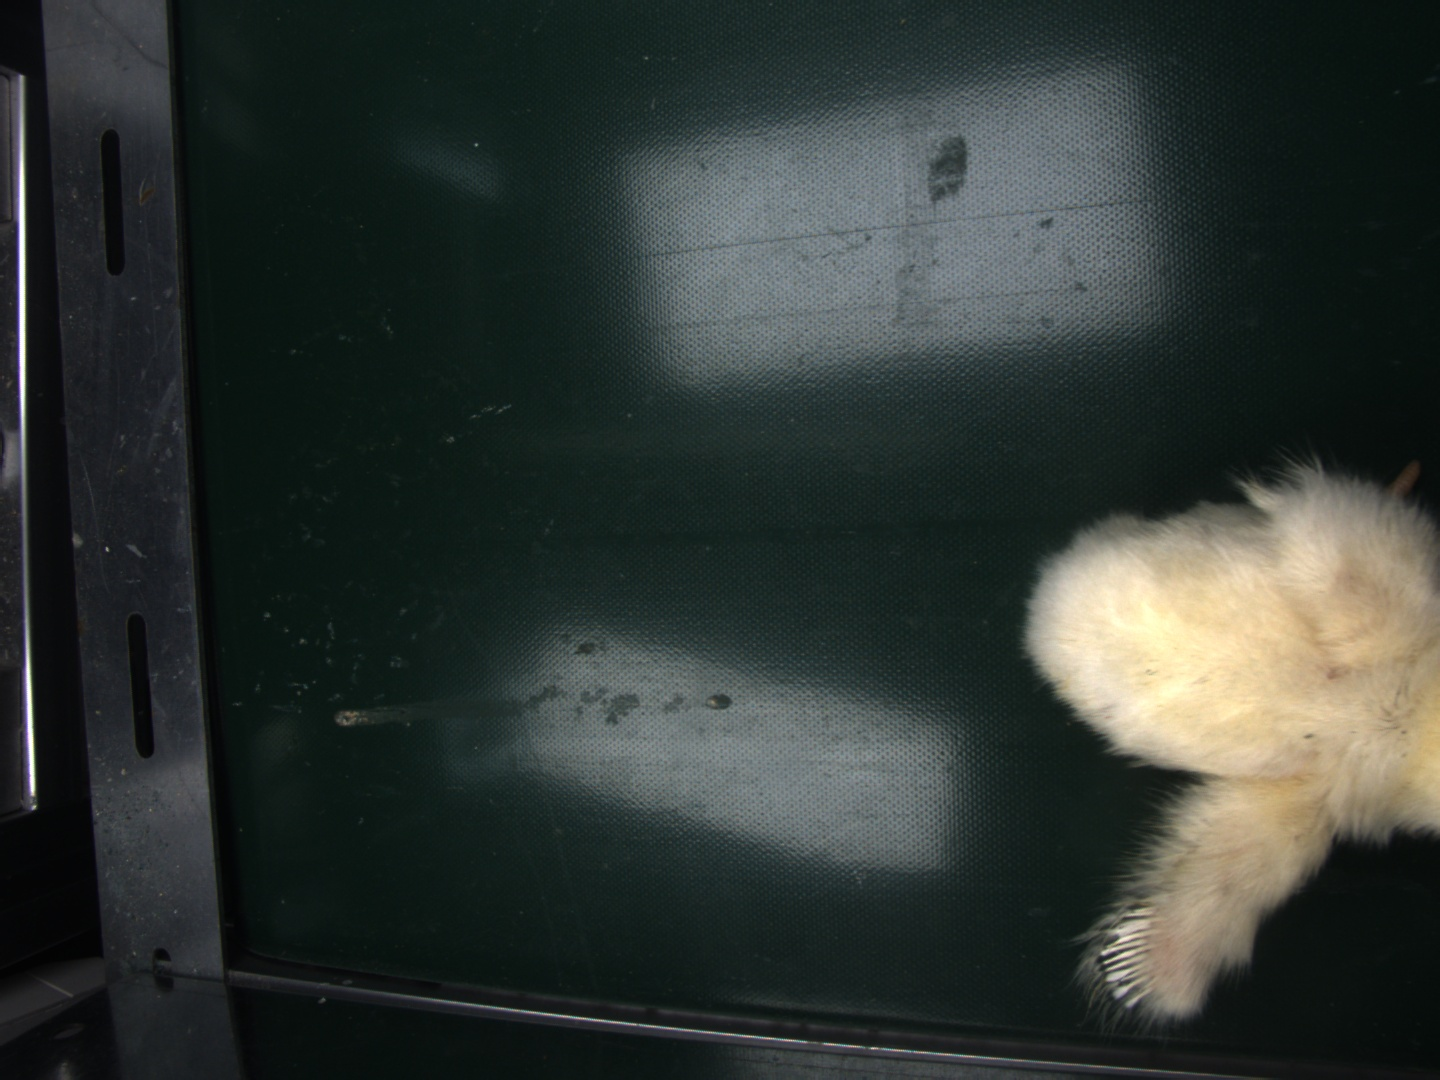male: (1104, 908, 1162, 1005)
